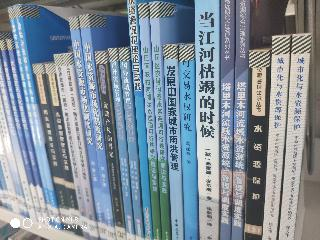book-spine: (6, 6, 54, 227), (14, 5, 61, 229), (69, 17, 107, 239), (80, 14, 116, 240), (6, 39, 49, 225), (0, 41, 43, 224), (276, 35, 310, 240), (257, 35, 291, 240), (32, 63, 71, 232), (63, 54, 98, 240), (54, 54, 88, 239), (45, 63, 81, 236), (126, 0, 151, 240), (193, 1, 218, 239), (0, 63, 36, 221), (95, 52, 125, 240), (138, 4, 161, 240), (241, 50, 269, 240), (149, 2, 170, 239), (109, 49, 135, 240), (229, 1, 249, 239), (120, 49, 143, 240), (163, 46, 184, 240), (218, 1, 233, 239), (180, 46, 197, 239)
